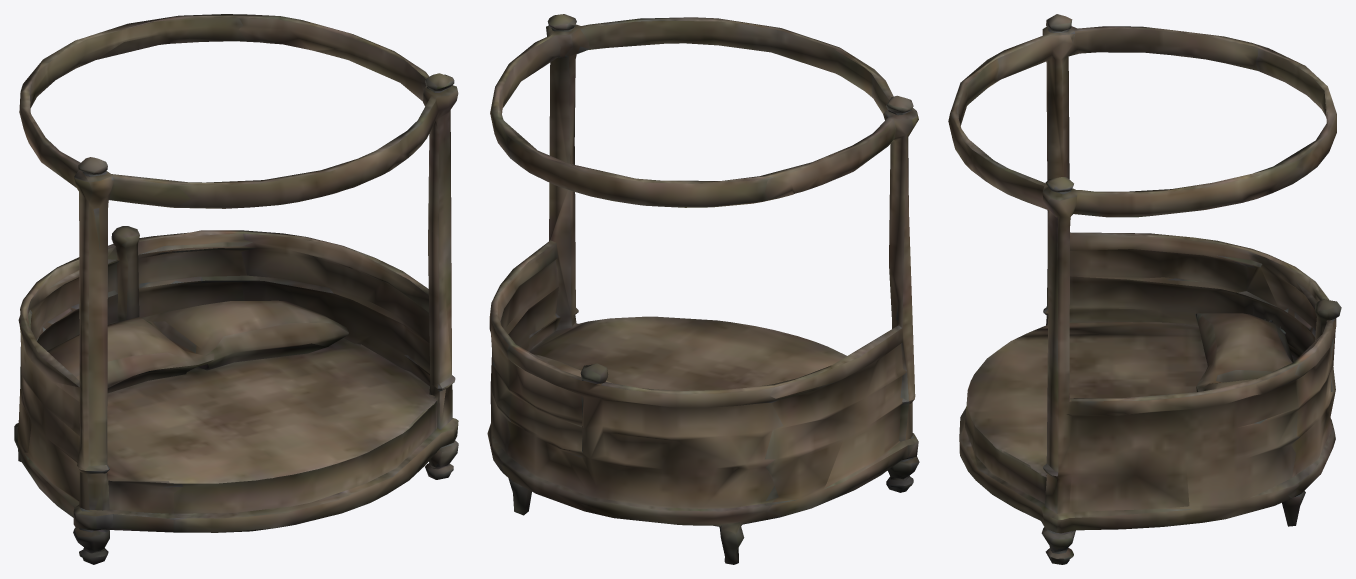
File: chipped-wood-four-poster-bed-v001.glb
3 renders of one model, left to right at view 1: azimuth 30°, elevation 25°; view 2: azimuth 150°, elevation 25°; view 3: azimuth 270°, elevation 25°, orthographic. The views are drawn at different scales.
Visible parts, largest first — view 1: chipped-wood-four-poster-bed; view 2: chipped-wood-four-poster-bed; view 3: chipped-wood-four-poster-bed.
Boxes of the visible parts, <box> form: chipped-wood-four-poster-bed: <box>14,14,458,564</box>; chipped-wood-four-poster-bed: <box>487,14,919,564</box>; chipped-wood-four-poster-bed: <box>948,14,1341,564</box>.
Size of the model in its own units: 2.32 by 2.34 by 2.16.
Materials: 1 (1 with a texture image).
